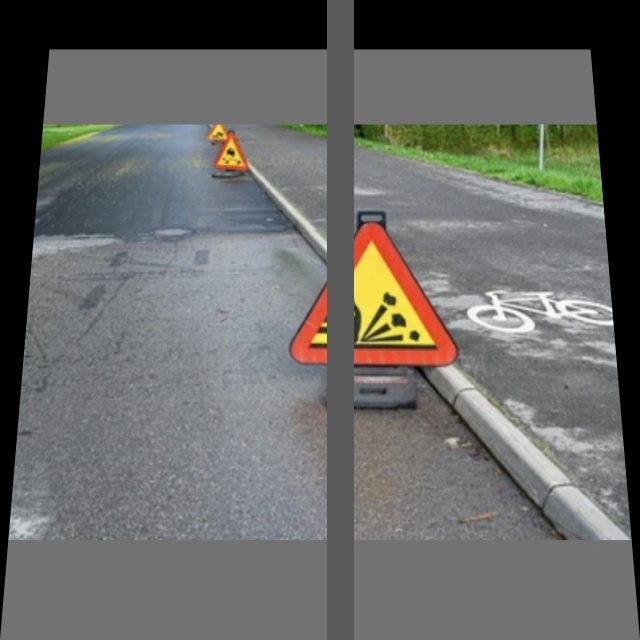Loose_Gravel: (301, 218, 451, 363)
